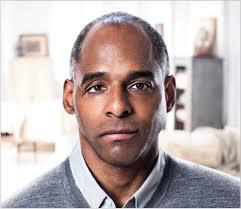strokeEyeSevere: (79, 67, 156, 99)
strokeMouthWeak: (93, 123, 143, 144)
